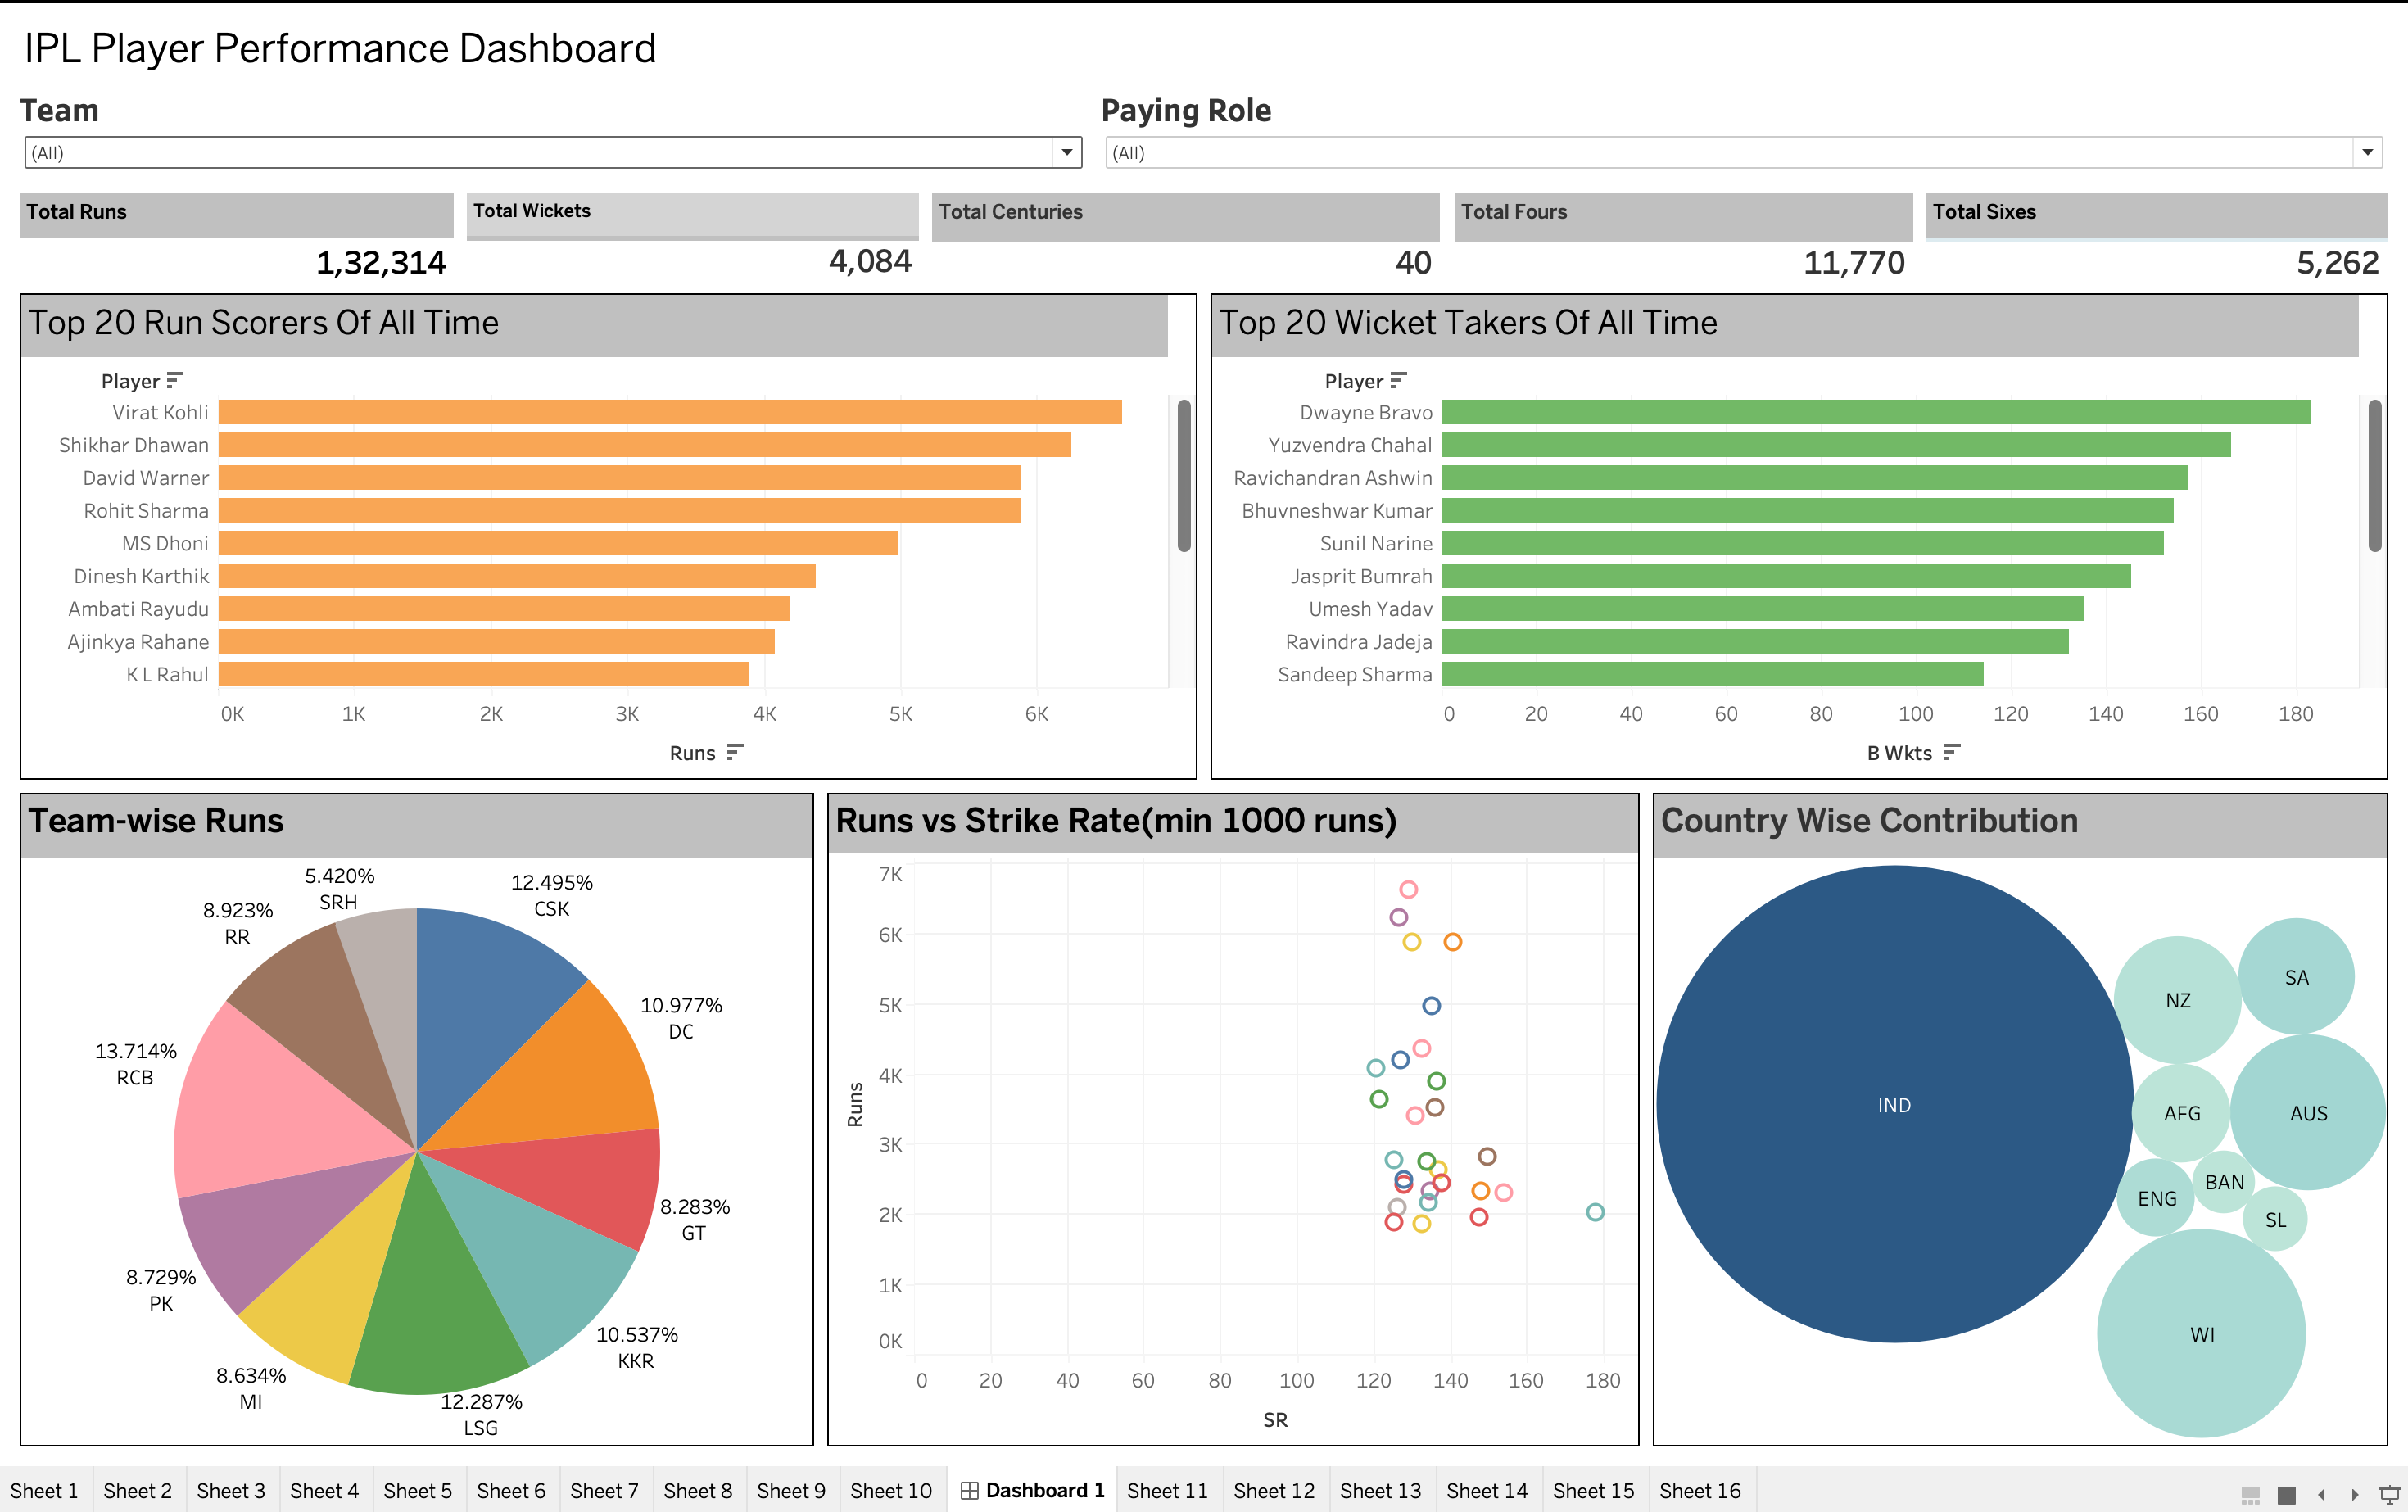

What the dashboard file says about the page in this screenshot:
{"tool":"tableau","page":{"name":"Dashboard 1","canvas":[1000,1000],"units":"permille","ordinal":0},"visuals":[{"type":"title","box":[6.4,9.6,987.3,46.9]},{"type":"filter","title":"Sheet 1","param":"[federated.1q6ew481t9qmb3146xeto01ve6di].[none:TEAM:nk]","box":[6.4,56.6,447.9,72.8]},{"type":"filter","title":"Sheet 1","param":"[federated.1q6ew481t9qmb3146xeto01ve6di].[none:Paying_Role:nk]","box":[454.3,56.6,539.4,72.8]},{"type":"worksheet","title":"Sheet 1","mark":"Automatic","box":[6.4,129.3,185.2,67.8]},{"type":"worksheet","title":"Sheet 2","mark":"Automatic","box":[191.5,129.3,193.3,67.8]},{"type":"worksheet","title":"Sheet 12","mark":"Automatic","box":[384.9,129.3,216,67.8]},{"type":"worksheet","title":"Sheet 13","mark":"Automatic","box":[600.9,129.3,195.8,67.8]},{"type":"worksheet","title":"Sheet 3","mark":"Automatic","box":[796.7,129.3,196.9,67.8]},{"type":"worksheet","title":"Sheet 6","mark":"Automatic","rows":["Player"],"cols":["Runs"],"box":[6.4,197.1,493.6,340.2]},{"type":"worksheet","title":"Sheet 7","mark":"Automatic","rows":["Player"],"cols":["B_Wkts"],"box":[500,197.1,493.7,340.2]},{"type":"worksheet","title":"Sheet 11","mark":"Pie","box":[6.4,537.2,334.5,453.1]},{"type":"worksheet","title":"Sheet 8","mark":"Automatic","rows":["Runs"],"cols":["SR"],"box":[340.8,537.2,342.3,453.1]},{"type":"worksheet","title":"Sheet 14","mark":"Circle","box":[683.1,537.2,310.5,453.1]}]}

Visuals, with their boxes on the dashboard's canvas, which has no fixed pixel size, in thousandths of its width and height (x1, y1, x2, y2). These are canvas units, not pixel positions in the 2408x1512 screenshot, which may show the page scaled, cropped or inside an application window:
title: select_region(6, 10, 994, 56)
"Sheet 1" filter: select_region(6, 57, 454, 129)
"Sheet 1" filter: select_region(454, 57, 994, 129)
"Sheet 1" worksheet: select_region(6, 129, 192, 197)
"Sheet 2" worksheet: select_region(192, 129, 385, 197)
"Sheet 12" worksheet: select_region(385, 129, 601, 197)
"Sheet 13" worksheet: select_region(601, 129, 797, 197)
"Sheet 3" worksheet: select_region(797, 129, 994, 197)
"Sheet 6" worksheet: select_region(6, 197, 500, 537)
"Sheet 7" worksheet: select_region(500, 197, 994, 537)
"Sheet 11" worksheet (Pie marks): select_region(6, 537, 341, 990)
"Sheet 8" worksheet: select_region(341, 537, 683, 990)
"Sheet 14" worksheet (Circle marks): select_region(683, 537, 994, 990)
